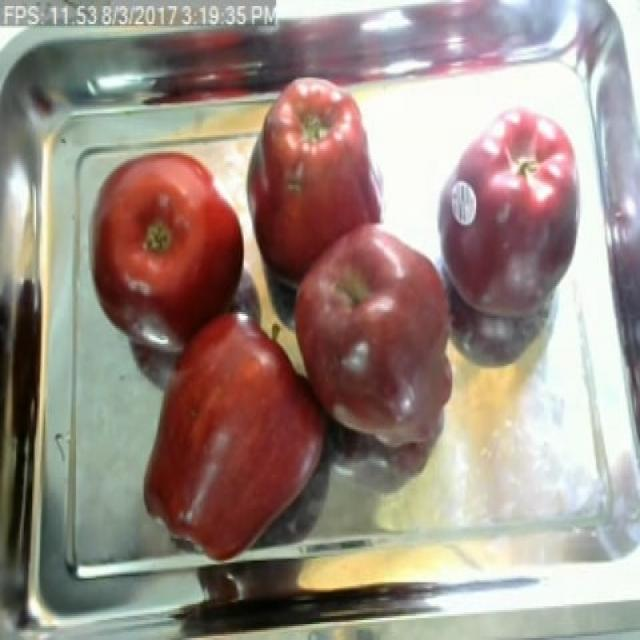Fresh Apple: (135, 312, 327, 552), (298, 242, 460, 462), (427, 128, 593, 325), (240, 75, 382, 280), (92, 153, 238, 342)
